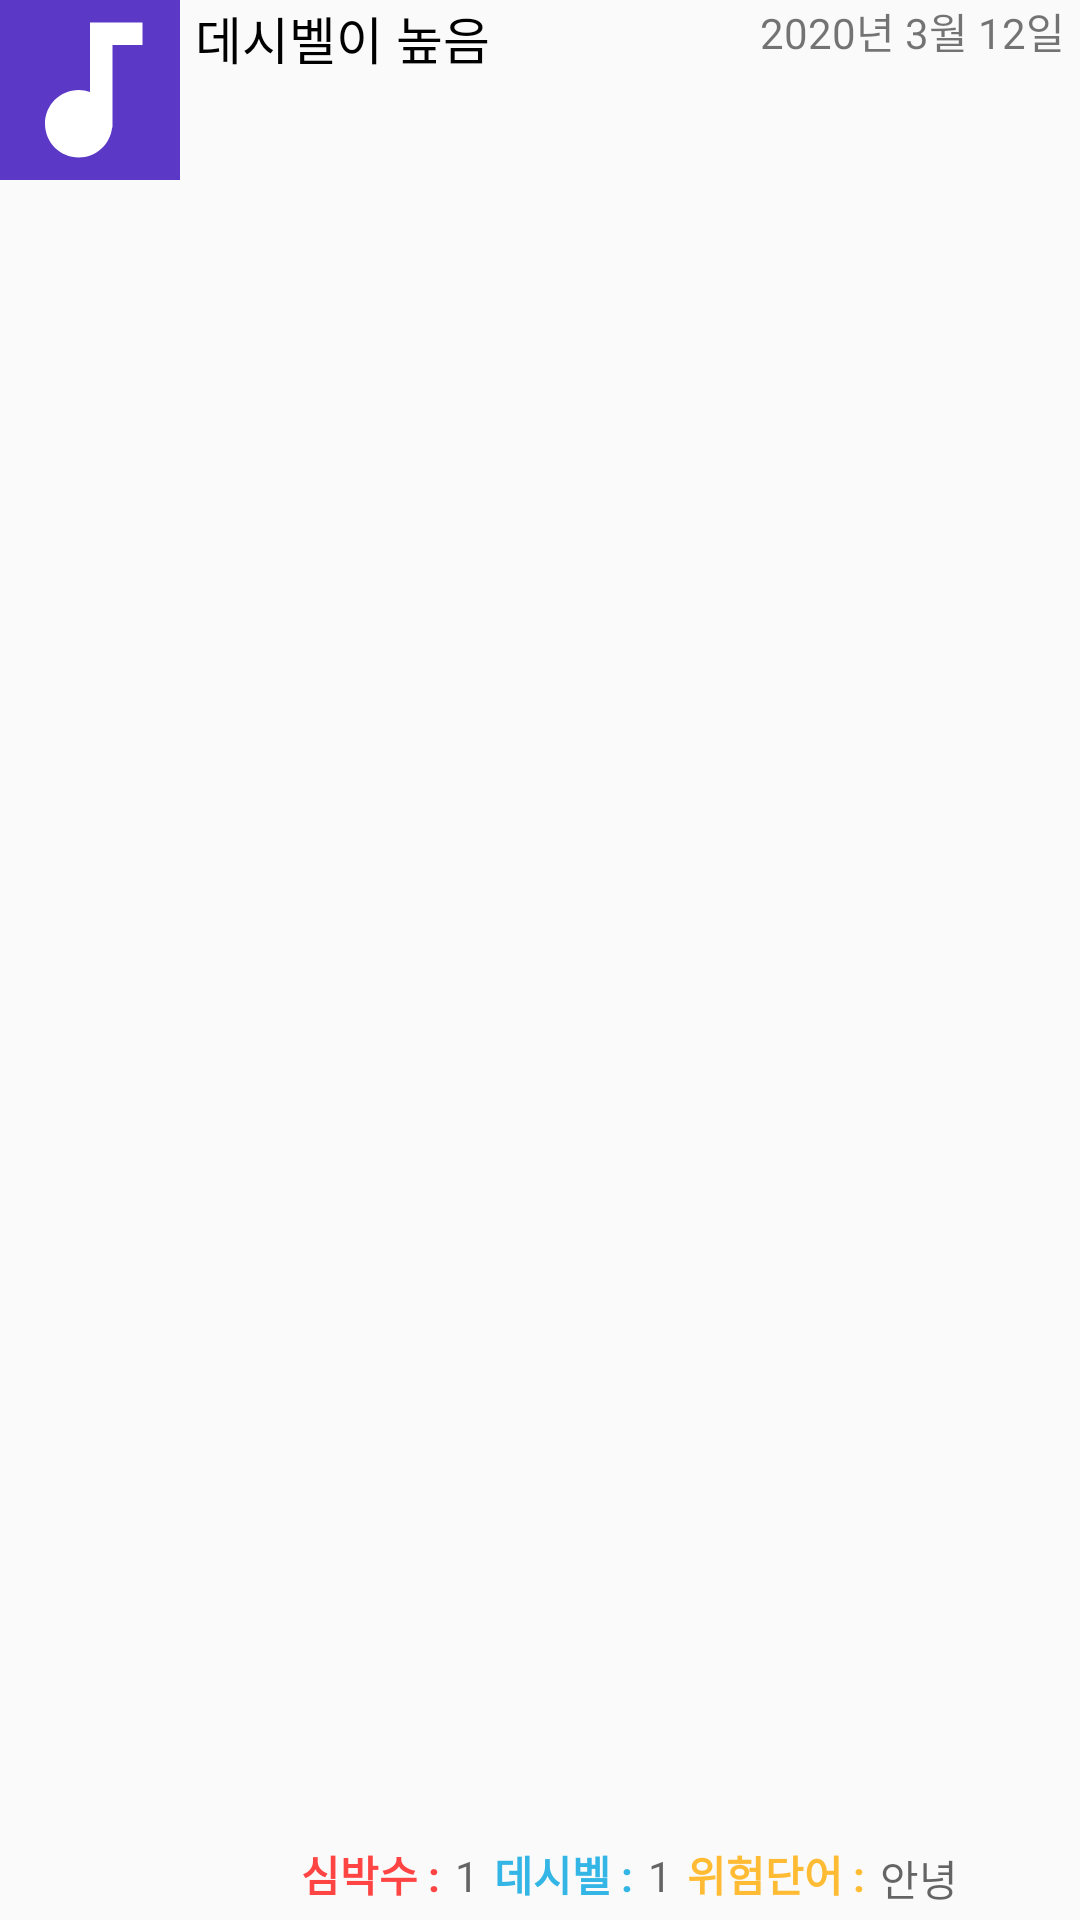

Screen size 1080w x 1920h. Icon name, then its center in pixels as (x,y):
audiotrack: (90,90)
